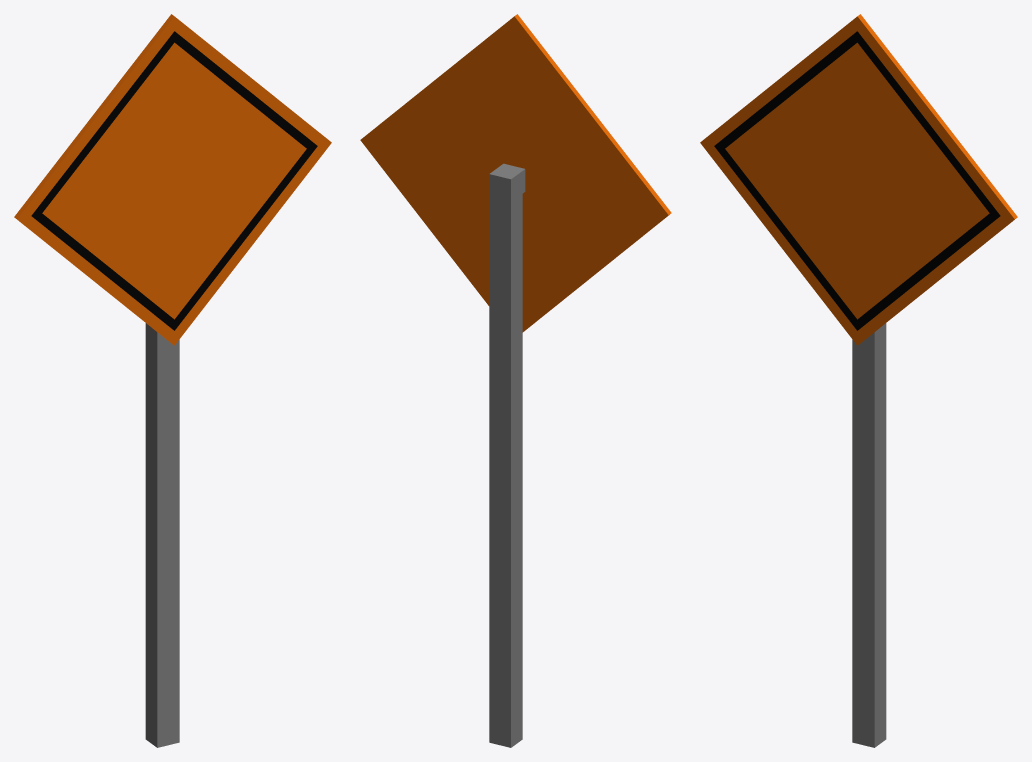
The model's file is road_sign.glb.
3 renders of one model, left to right at view 1: azimuth 30°, elevation 25°; view 2: azimuth 150°, elevation 25°; view 3: azimuth 330°, elevation 25°, orthographic. The views are drawn at different scales.
Parts seen in each view (by area): view 1: road_work_sign; view 2: road_work_sign; view 3: road_work_sign.
Part boxes in pixels (x1,y1,x2,y2): road_work_sign: (14, 14, 331, 747); road_work_sign: (360, 14, 671, 747); road_work_sign: (700, 14, 1017, 747).
Bounding box in the file's own units: 1.27 × 2.83 × 0.1241.
